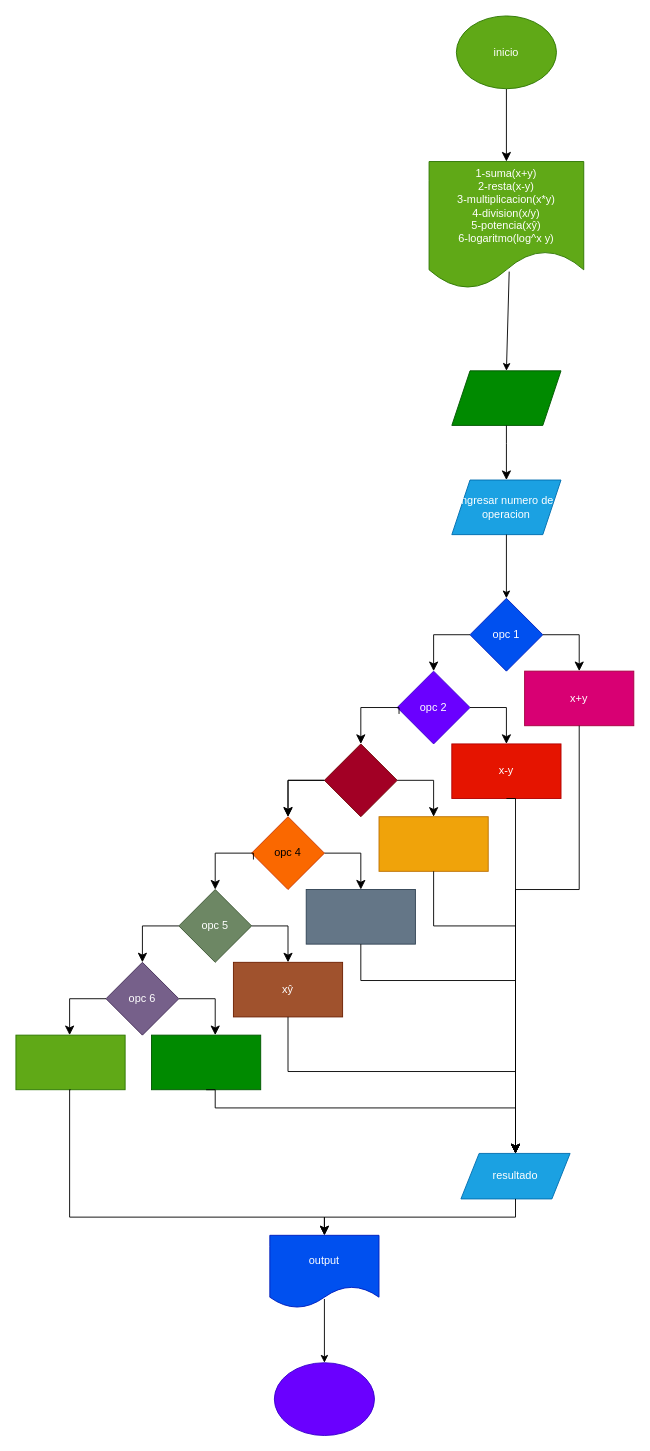
Image size: 650x1451. Some labels were removed from this diagram. The shapes that lost their labels are listed below. From the top down, each one's box as (x1, y1, x2, y2) in pixels, then its label:
(451, 370, 561, 425): x,y
(324, 743, 397, 817): opc 3
(378, 816, 488, 871): x*y
(305, 889, 415, 944): x/y
(15, 1034, 125, 1090): no tiene operacion digite un numero otra ves
(151, 1034, 261, 1090): log^x y
(273, 1362, 374, 1436): fin
